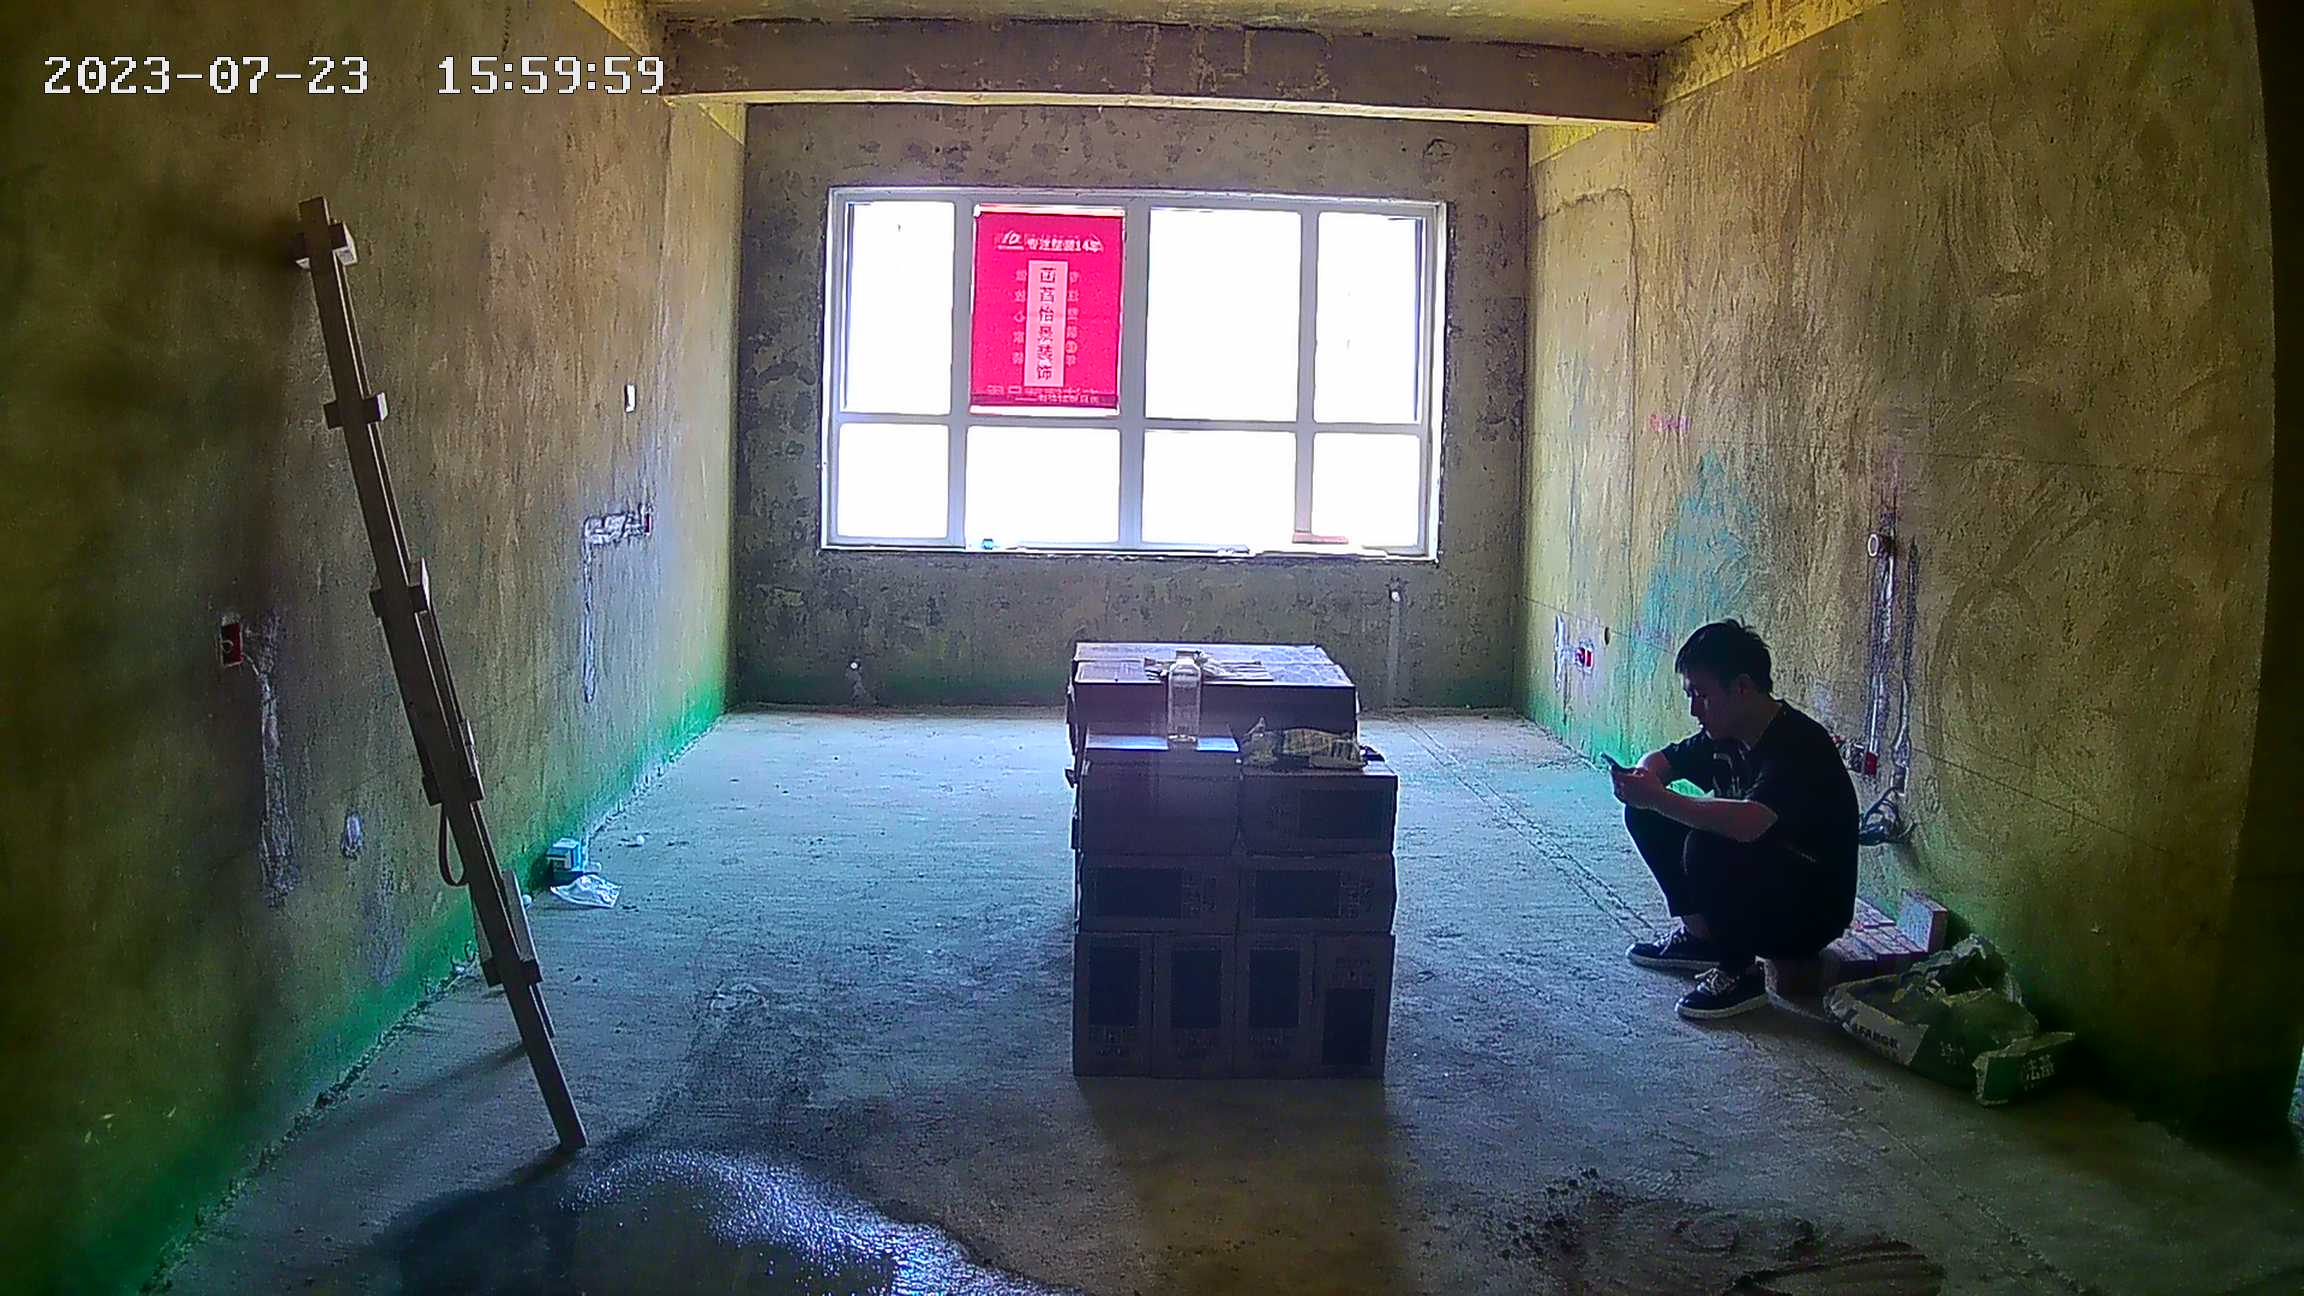people: (1608, 617, 1864, 1027)
window: (837, 196, 1430, 560)
